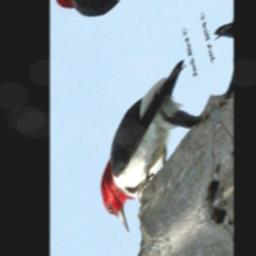Woodpecker: (88, 53, 213, 251)
